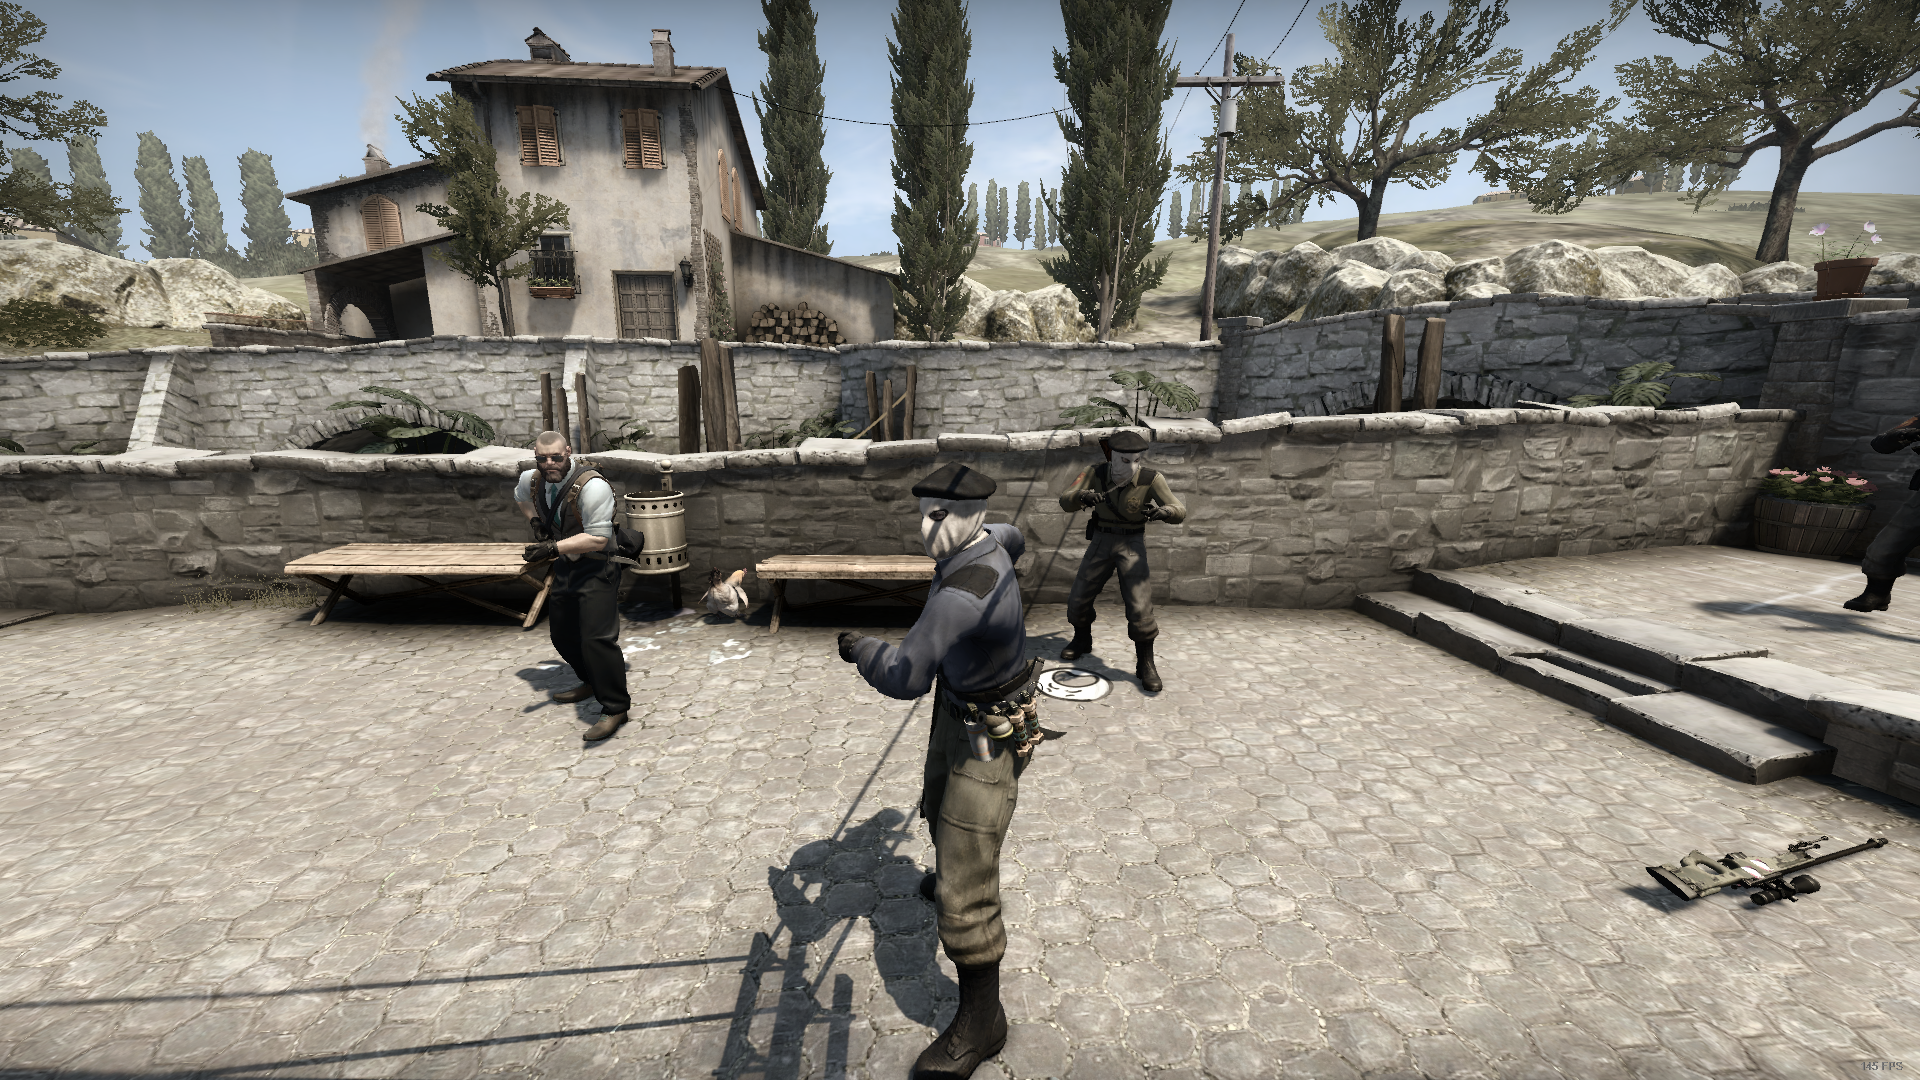t: (839, 458, 1052, 1079), (1060, 429, 1188, 704)
